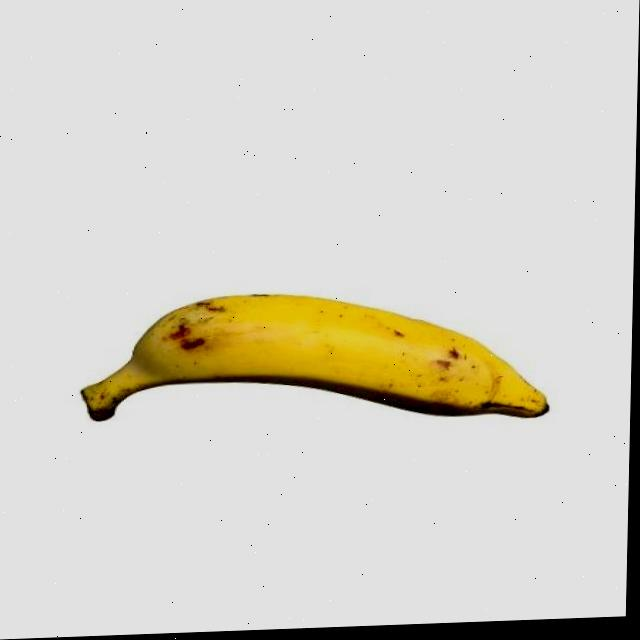banana: (126, 277, 559, 439)
